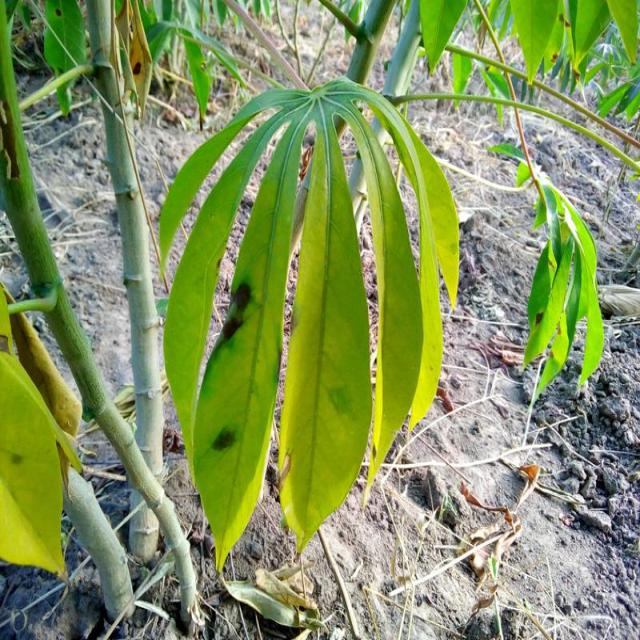cassava leaf: (159, 76, 459, 570), (190, 102, 306, 572), (277, 104, 373, 554)
